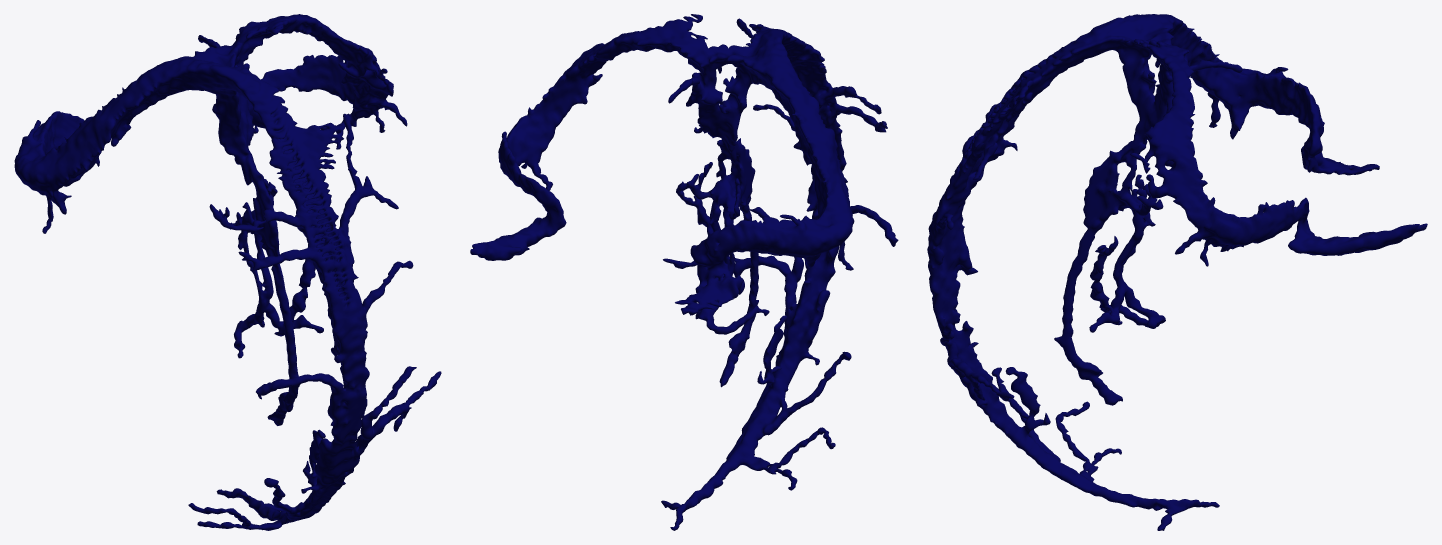
Rendered from Venous_sinus.obj.
3 renders of one model, left to right at view 1: azimuth 30°, elevation 25°; view 2: azimuth 150°, elevation 25°; view 3: azimuth 270°, elevation 25°, orthographic. The views are drawn at different scales.
Visible parts, largest first — view 1: grp1; view 2: grp1; view 3: grp1.
Part boxes in pixels (left/top/right/bottom): grp1: left=14, top=14, right=441, bottom=530; grp1: left=470, top=14, right=898, bottom=530; grp1: left=927, top=14, right=1427, bottom=530.
Size of the model in its own units: 113 by 151 by 142.
